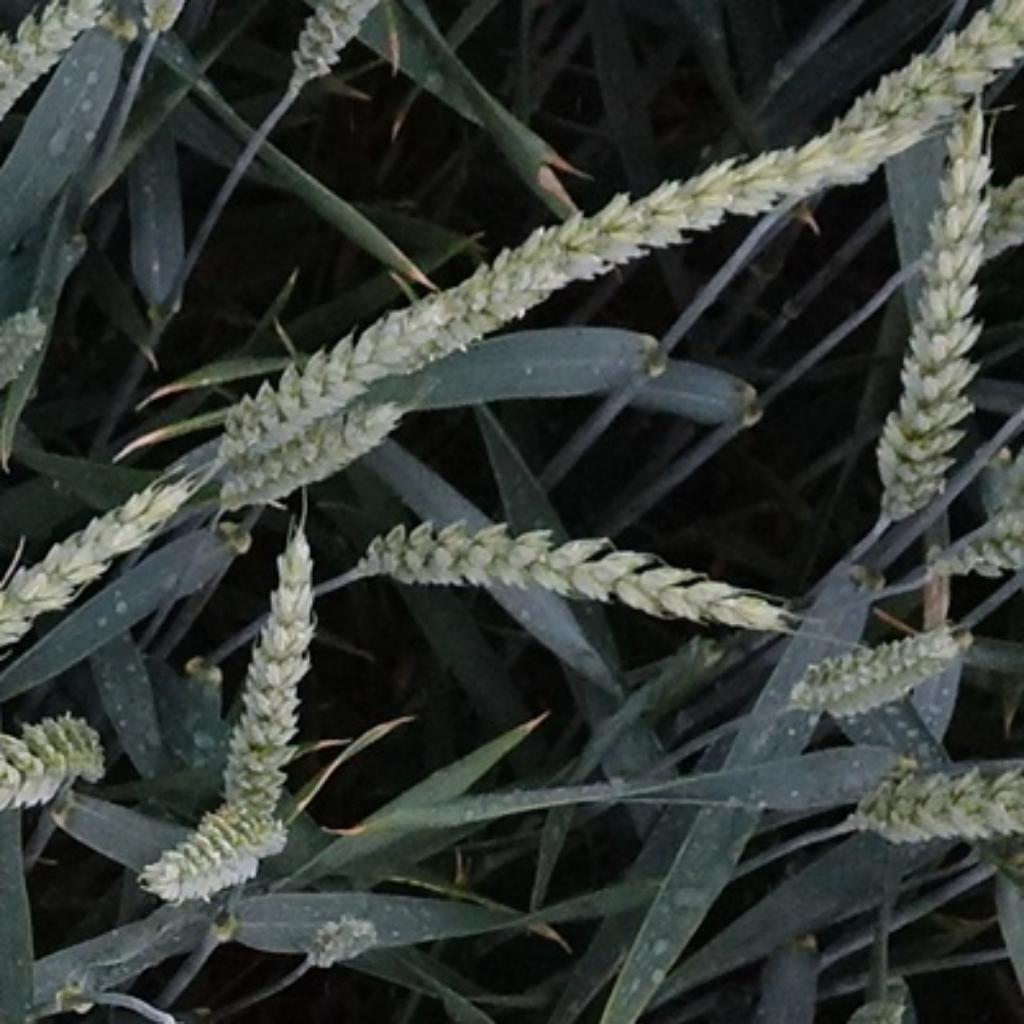0-0: (3, 301, 420, 671), (471, 122, 851, 310), (337, 491, 786, 644), (855, 99, 1006, 535), (829, 2, 1024, 222), (202, 511, 333, 824), (358, 260, 578, 382), (788, 609, 982, 736), (212, 399, 414, 514), (128, 783, 291, 919), (837, 742, 1024, 857), (1, 691, 117, 826), (0, 2, 114, 126), (279, 2, 379, 96), (938, 170, 1024, 274), (933, 511, 1024, 602), (0, 290, 65, 397), (296, 907, 383, 968)
